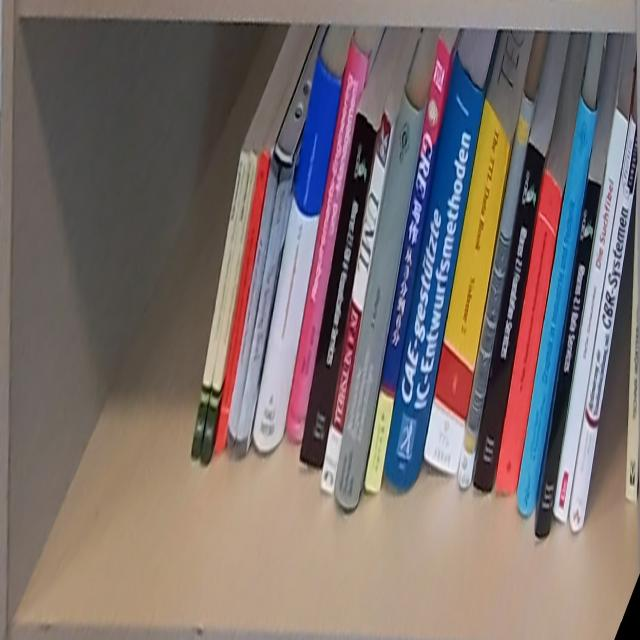Book Spine: (384, 52, 485, 488), (335, 87, 428, 508), (365, 38, 451, 492), (252, 57, 343, 454), (516, 96, 598, 515), (422, 96, 511, 477), (285, 42, 368, 442), (553, 112, 629, 524), (458, 90, 534, 490), (569, 118, 638, 533), (299, 113, 377, 471), (320, 110, 392, 496), (473, 142, 547, 493), (538, 178, 602, 541), (497, 171, 564, 493), (226, 153, 293, 458), (201, 152, 258, 467), (192, 151, 249, 462), (214, 149, 270, 454)
